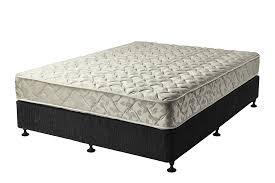bed-matress: (14, 41, 261, 130)
